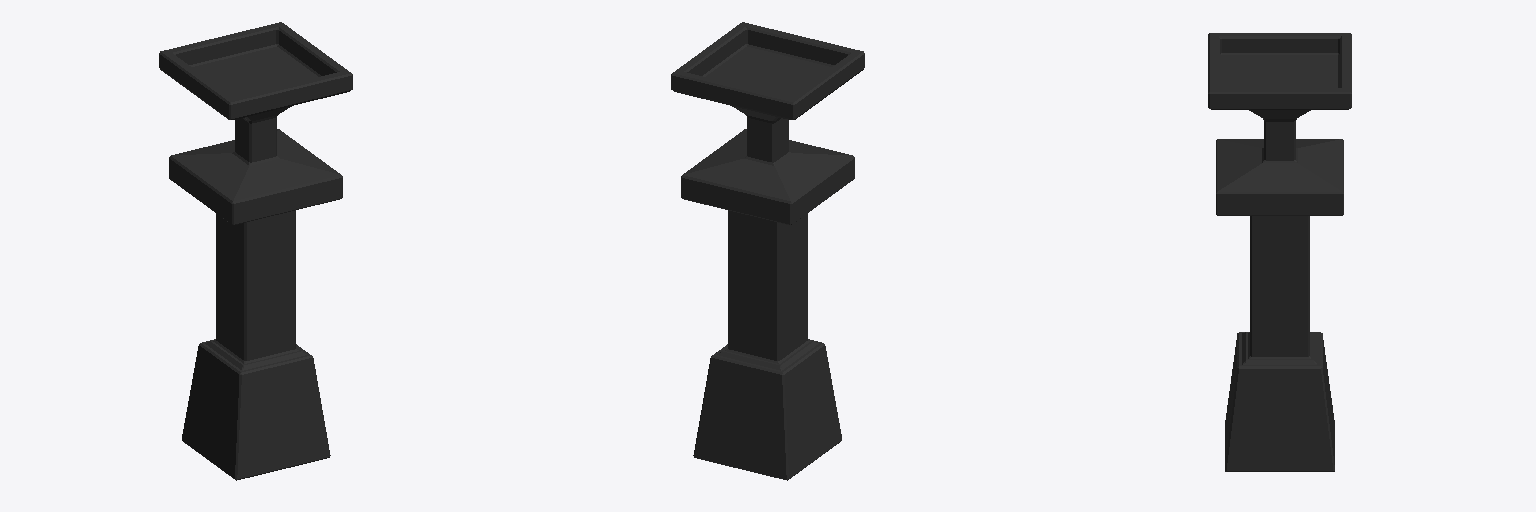
Rendered from tower.obj.
3 renders of one model, left to right at view 1: azimuth 30°, elevation 25°; view 2: azimuth 150°, elevation 25°; view 3: azimuth 270°, elevation 25°, orthographic.
Visible parts, largest first — view 1: Cube_Cube.002; view 2: Cube_Cube.002; view 3: Cube_Cube.002.
Boxes of the visible parts, x1=… form: Cube_Cube.002: x1=159, y1=22, x2=352, y2=480; Cube_Cube.002: x1=671, y1=22, x2=864, y2=480; Cube_Cube.002: x1=1208, y1=33, x2=1351, y2=471.
Size of the model in its own units: 0.5717 by 1.7 by 0.5717.